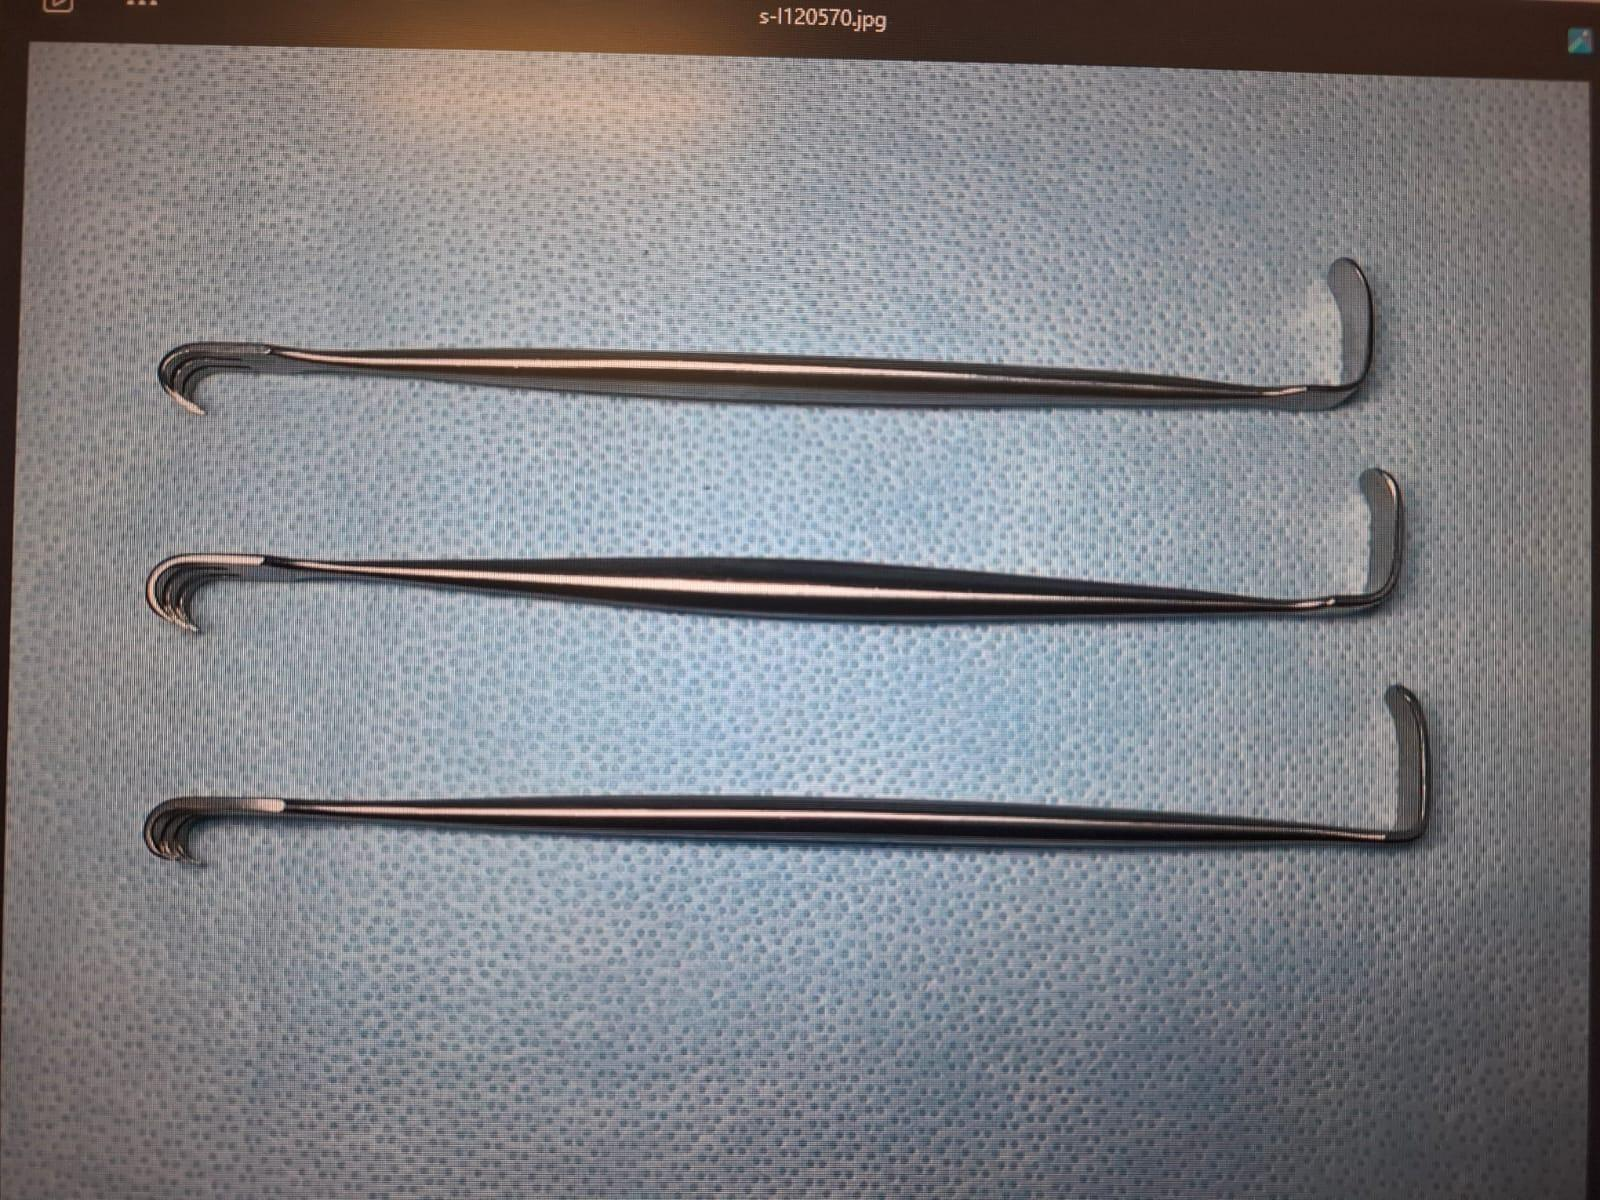Senn Retractor: (122, 680, 1452, 916), (134, 450, 1414, 668), (144, 234, 1390, 456)
